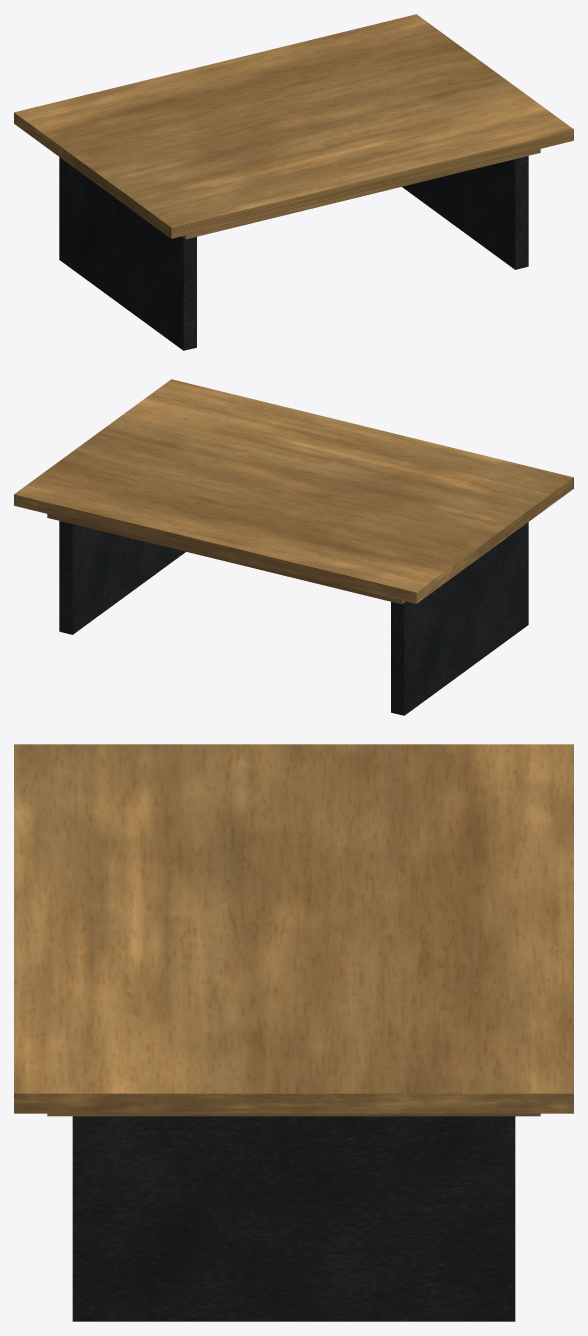
The model's file is table.fbx.
3 renders of one model, top to bottom at view 1: azimuth 30°, elevation 25°; view 2: azimuth 150°, elevation 25°; view 3: azimuth 270°, elevation 25°, orthographic. The views are drawn at different scales.
Parts seen in each view (by area): view 1: Table; view 2: Table; view 3: Table.
Part boxes in pixels (x1,y1,x2,y2): Table: (14,14,573,350); Table: (14,379,573,715); Table: (14,744,573,1321).
Size of the model in its own units: 460 by 155 by 311.
